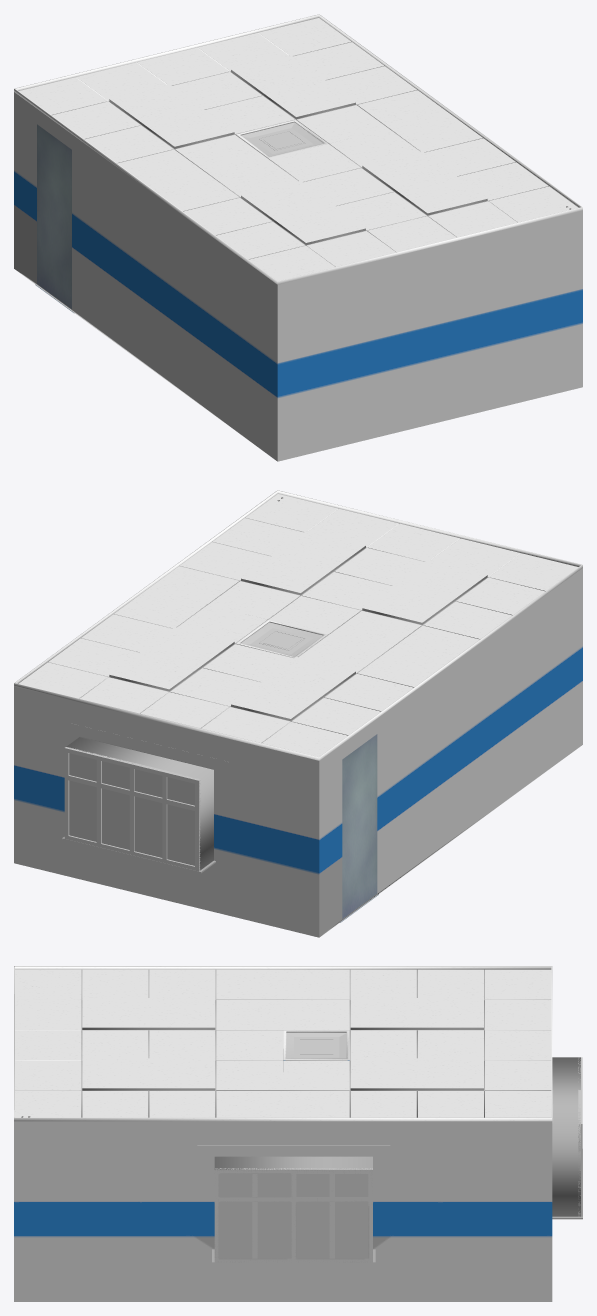
Rendered from room.fbx.
3 renders of one model, top to bottom at view 1: azimuth 30°, elevation 25°; view 2: azimuth 150°, elevation 25°; view 3: azimuth 270°, elevation 25°, orthographic. The views are drawn at different scales.
Visible parts, largest first — view 1: room; view 2: room; view 3: room.
Part boxes in pixels (bbox=[...]): room: bbox=[14, 14, 582, 461]; room: bbox=[14, 490, 582, 937]; room: bbox=[14, 966, 582, 1301].
Size of the model in its own units: 434 by 226 by 632.
